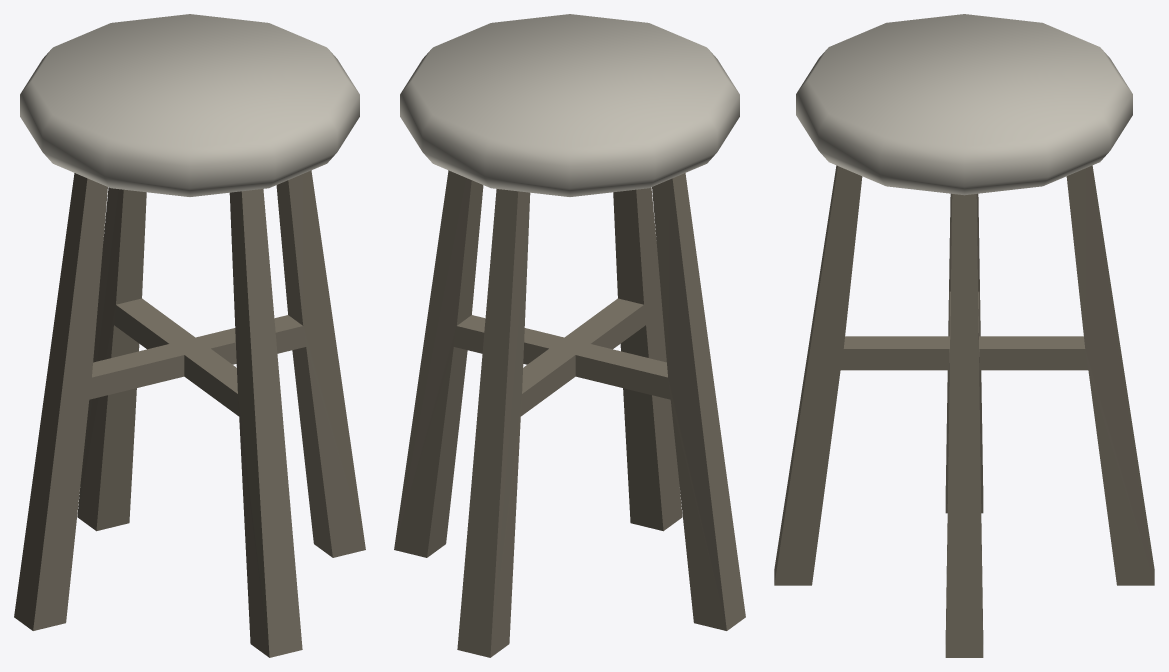
The model's file is Chair_04.FBX.
3 renders of one model, left to right at view 1: azimuth 30°, elevation 25°; view 2: azimuth 150°, elevation 25°; view 3: azimuth 270°, elevation 25°, orthographic.
Parts seen in each view (by area): view 1: Chair_04_LOD0; view 2: Chair_04_LOD0; view 3: Chair_04_LOD0.
Part boxes in pixels (x1,y1,x2,y2): Chair_04_LOD0: [14, 14, 365, 657]; Chair_04_LOD0: [394, 14, 745, 657]; Chair_04_LOD0: [774, 14, 1154, 657].
Size of what is drawn, in the model's own units: 23.61 by 34.07 by 23.61.
